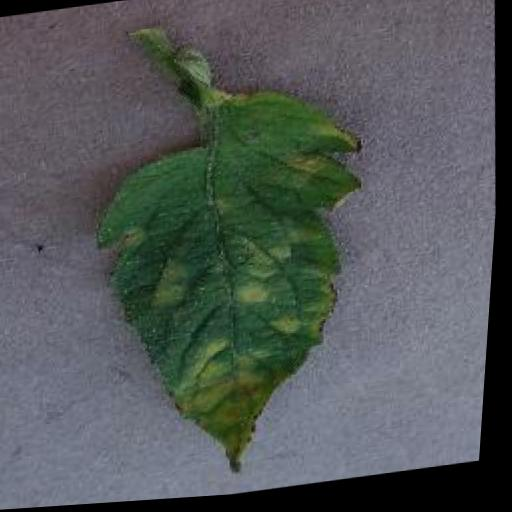Leaf Mold: (76, 77, 393, 497)
